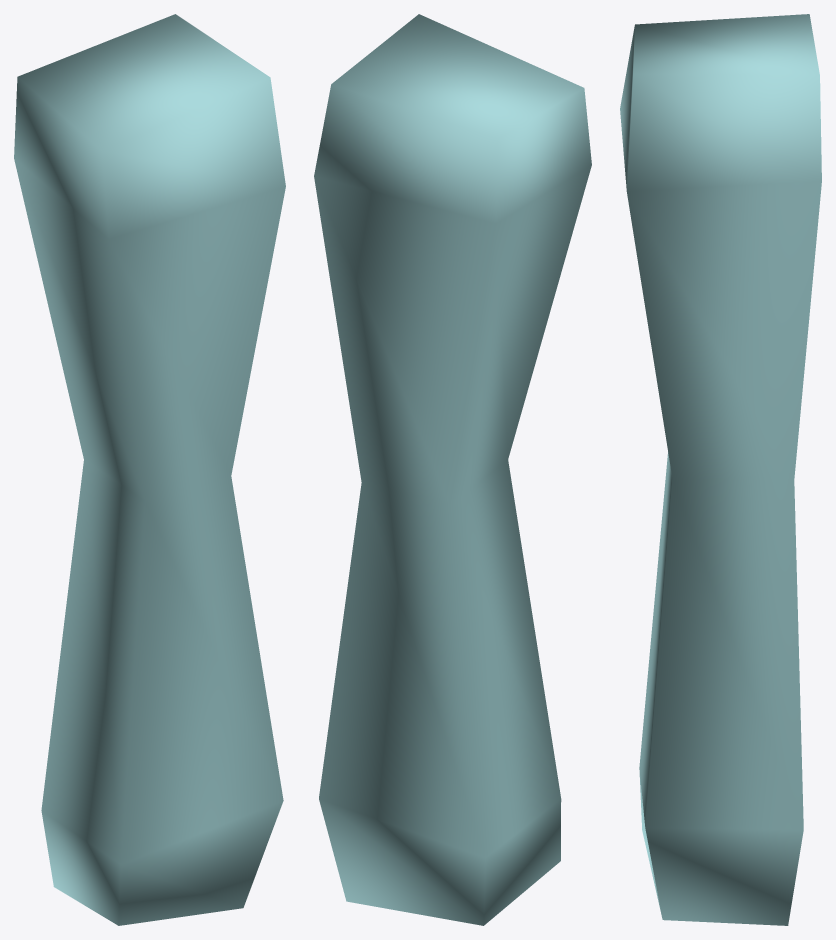
The model's file is Skelly_palm.02.R.fbx.
The picture shows the model from 3 angles, left to right: view 1: azimuth 30°, elevation 25°; view 2: azimuth 150°, elevation 25°; view 3: azimuth 270°, elevation 25°; orthographic projection. The views are drawn at different scales.
Parts seen in each view (by area): view 1: Skelly_palm.02.R; view 2: Skelly_palm.02.R; view 3: Skelly_palm.02.R.
Part boxes in pixels (x1=…): Skelly_palm.02.R: x1=14, y1=14, x2=285, y2=925; Skelly_palm.02.R: x1=314, y1=14, x2=591, y2=925; Skelly_palm.02.R: x1=620, y1=14, x2=821, y2=925.
Size of the model in its own units: 2.06 by 8.82 by 1.89.
